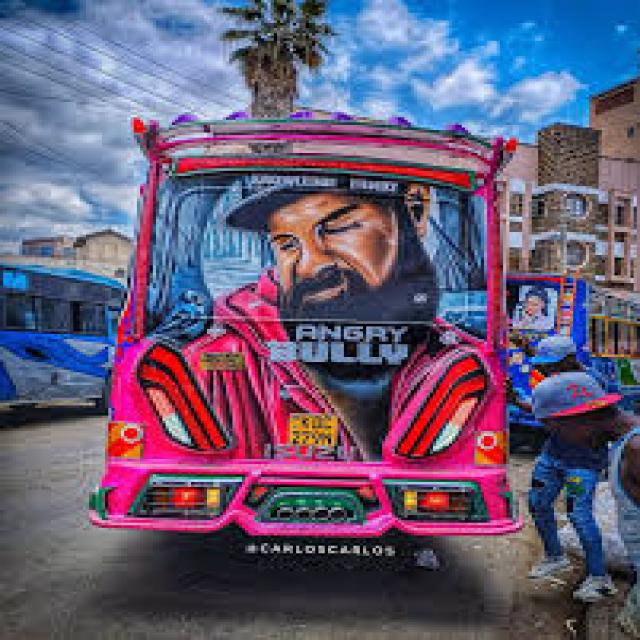bus: (59, 48, 554, 600)
